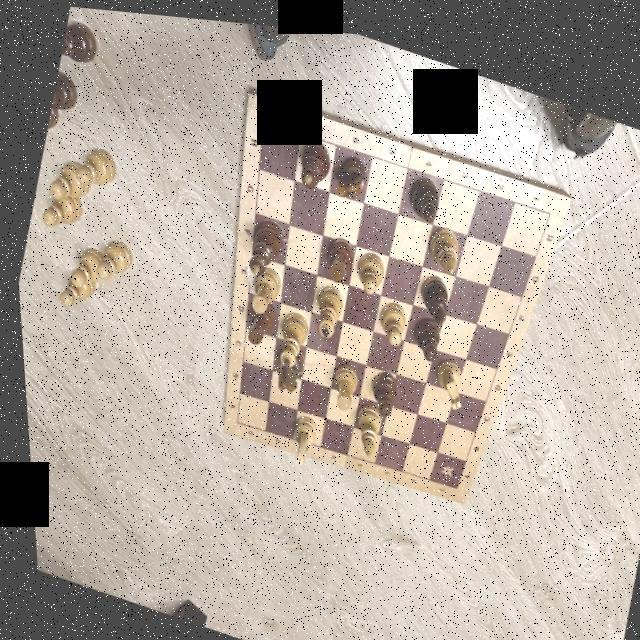chess-table-corners: (542, 197, 552, 210), (257, 109, 266, 121), (227, 414, 236, 424), (446, 475, 454, 485)
